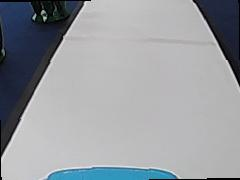corn: (29, 0, 69, 25)
